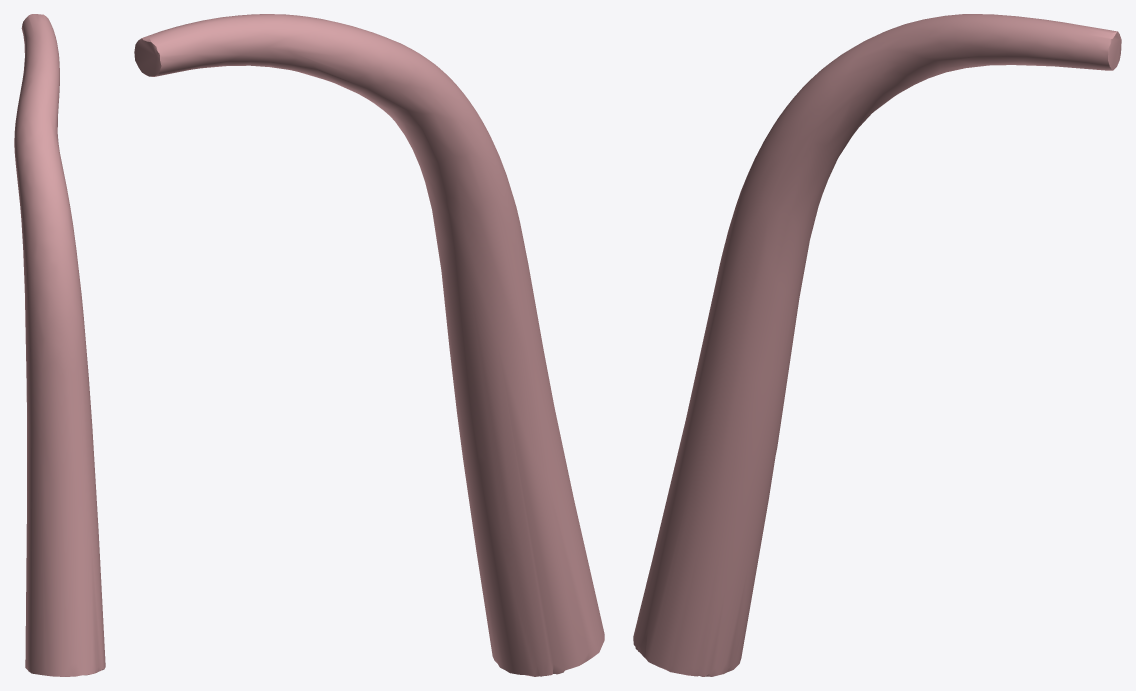
Rendered from fma68211_fj2520.glb.
3 views of the same model, side by side, from view 1: azimuth 30°, elevation 25°; view 2: azimuth 150°, elevation 25°; view 3: azimuth 270°, elevation 25° (orthographic). The views are drawn at different scales.
Visible parts, largest first — view 1: FMA68211_FJ2520; view 2: FMA68211_FJ2520; view 3: FMA68211_FJ2520.
Part boxes in pixels (x1,y1,x2,y2): FMA68211_FJ2520: [14, 14, 105, 676]; FMA68211_FJ2520: [134, 14, 604, 676]; FMA68211_FJ2520: [633, 14, 1121, 676].
Size of the model in its own units: 0.0136 by 0.039 by 0.0243.
